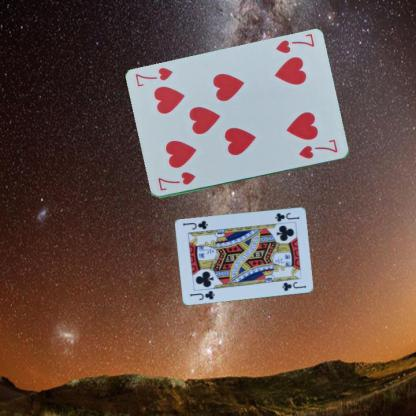7h: (274, 31, 316, 55), (155, 170, 196, 192)
Jc: (187, 288, 216, 301), (273, 210, 300, 222)
